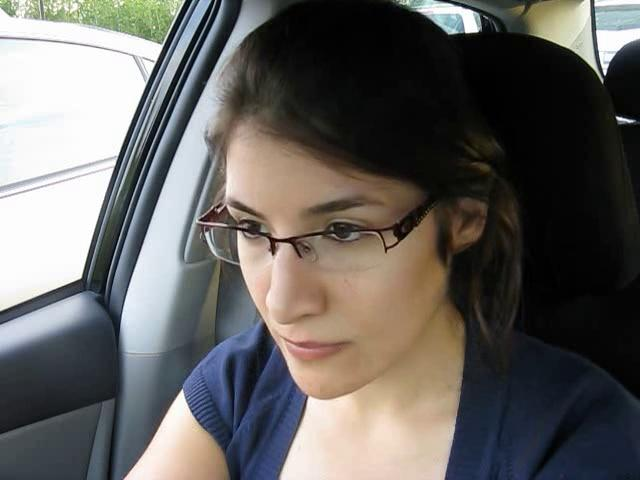no_yawn: (264, 318, 368, 369)
open_eyeL: (213, 212, 278, 259)
open_eyeR: (305, 205, 390, 264)
